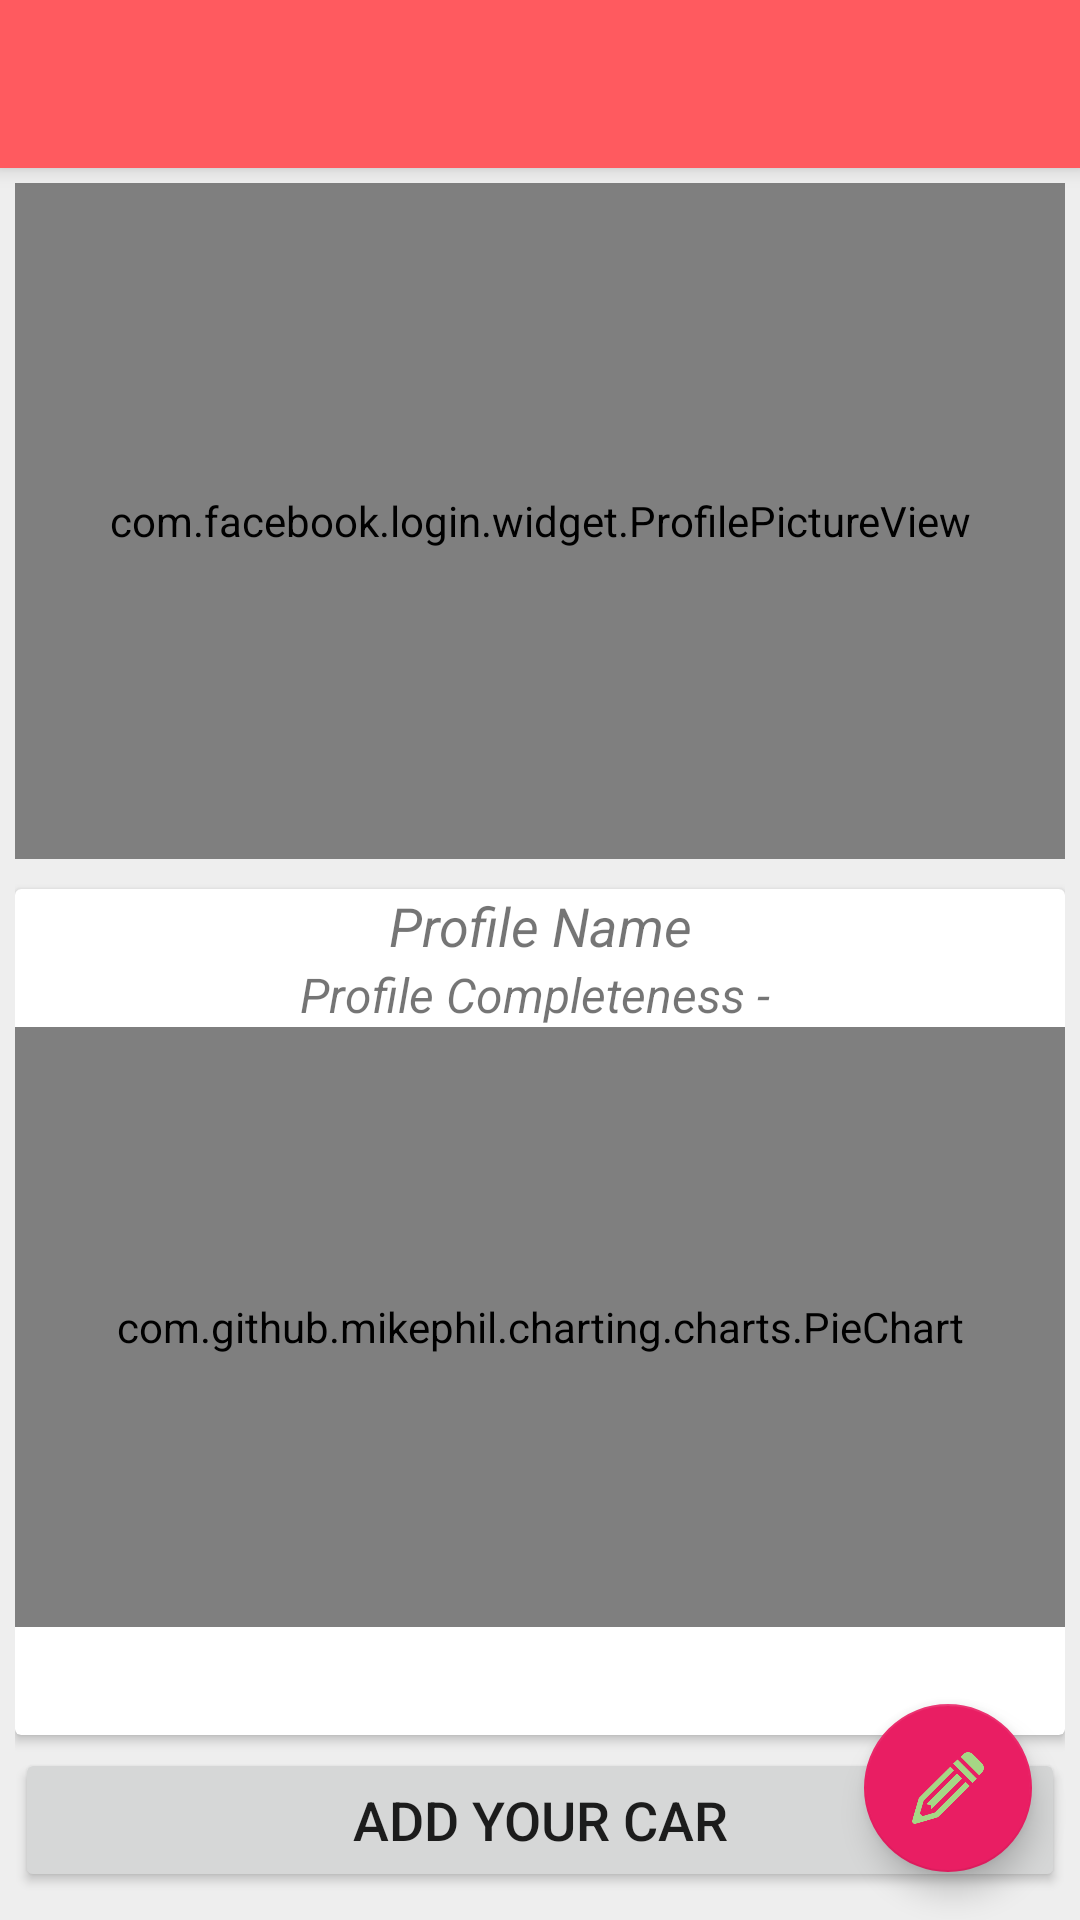

Point at icon controls on the screen. Image size 1080 × 1920, points as (x,y).
edits: (948,1788)
